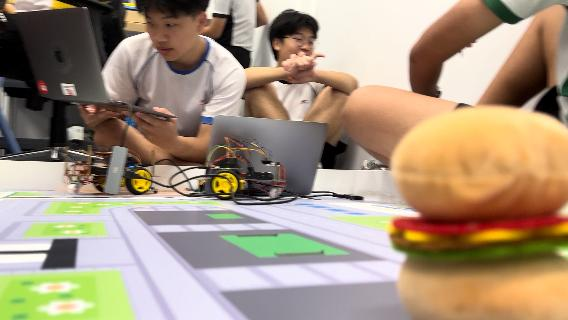burger: (386, 106, 568, 320)
